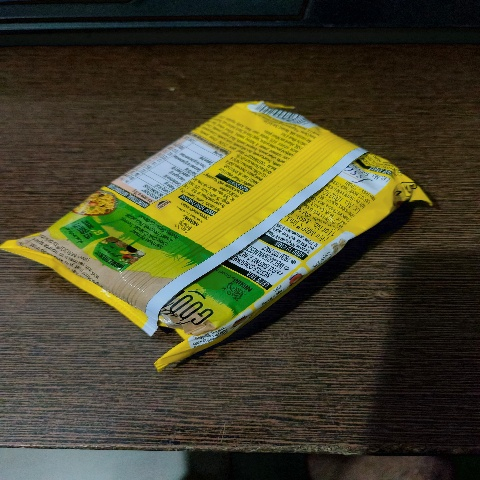maggi: (11, 88, 446, 377)
